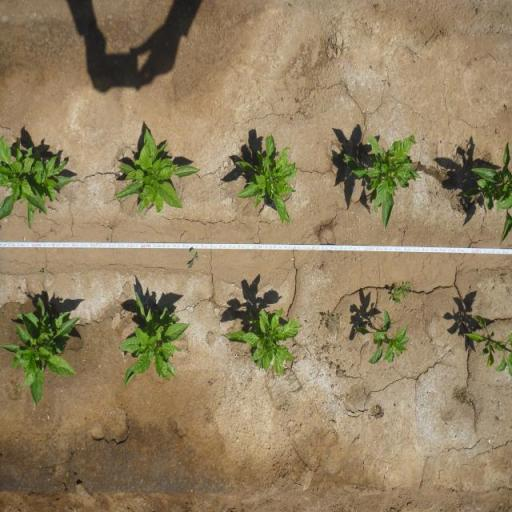plant: (0, 294, 84, 411), (111, 124, 201, 219), (116, 286, 192, 390), (342, 129, 418, 231), (0, 134, 77, 232), (231, 130, 299, 226), (458, 138, 512, 246), (224, 308, 304, 378), (461, 311, 512, 379), (354, 308, 410, 366)
weed: (386, 279, 415, 306), (318, 310, 340, 332), (188, 247, 200, 270), (38, 268, 44, 276), (304, 319, 310, 325), (414, 140, 416, 145), (422, 136, 424, 141)
